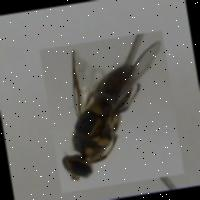Oriental-fruit-fly: (40, 29, 185, 192)
